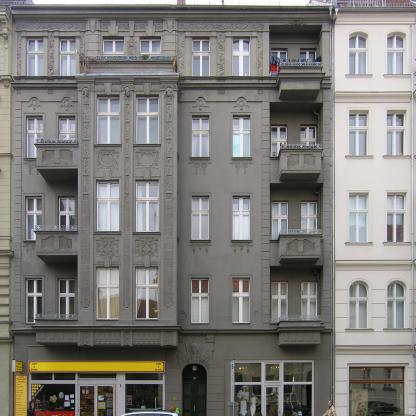Building Outline: (9, 4, 416, 416)
Cornice: (172, 343, 215, 369)
Deco: (77, 84, 93, 200), (161, 84, 177, 200), (28, 361, 165, 372), (122, 84, 133, 200), (135, 238, 159, 258), (96, 150, 120, 170), (135, 150, 159, 170), (96, 238, 119, 258)
Door: (78, 384, 115, 416), (183, 377, 207, 416), (265, 385, 281, 416)
Facade: (14, 9, 416, 415)
Floor: (14, 252, 415, 338), (14, 167, 415, 252), (14, 85, 415, 167)
Floor Slab: (14, 80, 416, 85), (14, 247, 416, 252), (14, 162, 416, 167), (14, 334, 416, 339)
Ground Floor: (14, 339, 415, 416)
Molding: (15, 21, 270, 32)
Shop: (32, 384, 76, 412), (125, 384, 162, 416), (283, 384, 311, 416), (233, 385, 261, 416), (283, 362, 312, 382), (233, 363, 261, 382), (78, 373, 116, 380), (125, 373, 163, 380), (266, 364, 280, 381), (54, 373, 76, 381), (32, 373, 53, 380)
Sill: (345, 155, 374, 160), (383, 155, 411, 160), (383, 328, 412, 332), (345, 328, 374, 332), (345, 75, 374, 79), (383, 242, 412, 246), (345, 242, 374, 246), (383, 75, 411, 79), (231, 156, 253, 161), (190, 239, 211, 244), (231, 239, 252, 243), (190, 157, 210, 161)
Top Floor: (14, 13, 415, 85)
Window: (350, 367, 405, 416), (136, 182, 159, 232), (136, 268, 158, 319), (97, 268, 119, 319), (97, 97, 120, 144), (97, 182, 119, 231), (136, 97, 159, 143), (388, 193, 407, 242), (350, 193, 369, 242), (387, 110, 406, 156), (350, 110, 369, 156), (232, 278, 250, 323), (191, 278, 209, 323), (59, 279, 76, 323), (26, 279, 43, 323), (233, 197, 250, 240), (192, 197, 209, 240), (301, 281, 318, 323), (59, 197, 75, 240), (26, 197, 42, 240), (59, 36, 76, 76), (26, 36, 43, 76), (233, 117, 250, 157), (192, 117, 209, 157), (272, 281, 288, 323), (233, 39, 251, 76), (192, 39, 210, 76), (59, 117, 75, 158), (27, 117, 43, 158), (301, 202, 317, 240), (272, 202, 288, 240), (349, 299, 369, 329), (388, 299, 407, 329), (300, 126, 316, 158), (271, 126, 287, 158), (301, 50, 317, 80), (272, 50, 288, 80), (349, 50, 368, 74), (387, 50, 406, 74), (387, 280, 407, 298), (140, 39, 161, 56), (350, 280, 369, 298), (103, 39, 124, 55), (349, 32, 368, 49), (387, 32, 406, 49), (183, 364, 207, 377)
dont: (120, 405, 182, 416), (322, 400, 337, 416)
